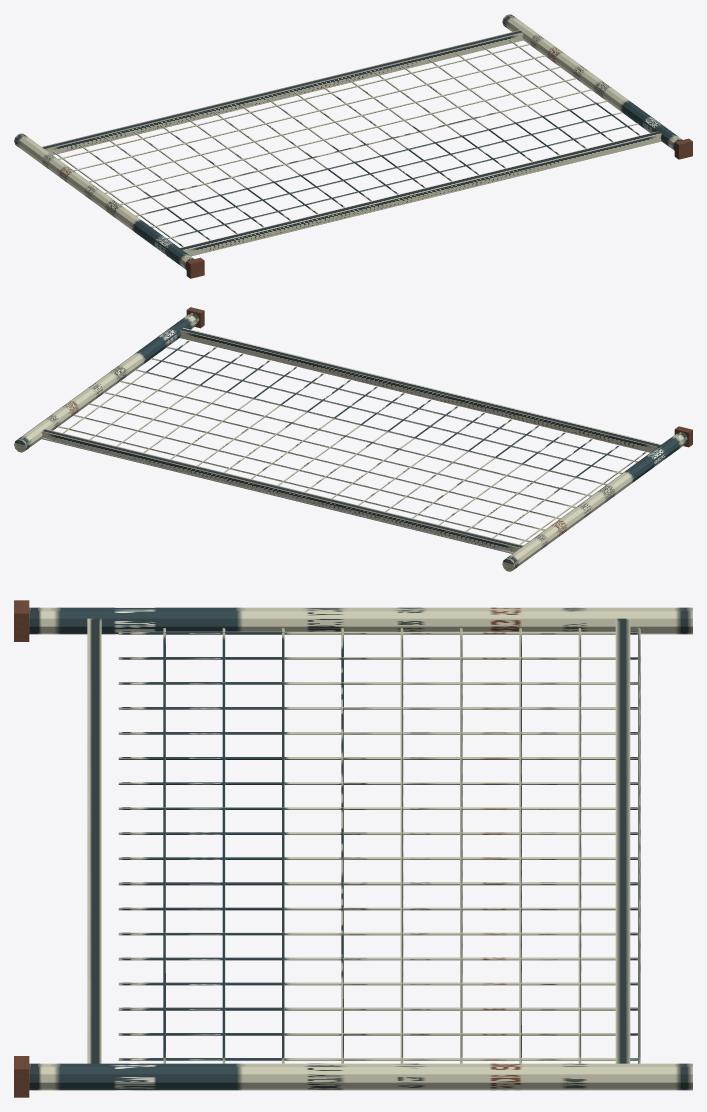
The model's file is PZ_RAD_05_Security_Fence_Straight_4m.glb.
3 renders of one model, top to bottom at view 1: azimuth 30°, elevation 25°; view 2: azimuth 150°, elevation 25°; view 3: azimuth 270°, elevation 25°, orthographic. The views are drawn at different scales.
Parts seen in each view (by area): view 1: FENCE_Security_WeldedWireMesh_Panel, FENCE_TopAndBottomRails, FENCE_Post_L, FENCE_Post_R, FENCE_PostCaps; view 2: FENCE_Security_WeldedWireMesh_Panel, FENCE_TopAndBottomRails, FENCE_Post_L, FENCE_Post_R; view 3: FENCE_Security_WeldedWireMesh_Panel, FENCE_Post_R, FENCE_Post_L, FENCE_TopAndBottomRails, FENCE_PostCaps.
Boxes of the visible parts, bbox=[...] form: FENCE_Security_WeldedWireMesh_Panel: bbox=[52, 39, 639, 246]; FENCE_TopAndBottomRails: bbox=[42, 30, 661, 256]; FENCE_Post_L: bbox=[14, 133, 194, 269]; FENCE_Post_R: bbox=[502, 14, 682, 150]; FENCE_PostCaps: bbox=[186, 138, 692, 278]; FENCE_Security_WeldedWireMesh_Panel: bbox=[42, 340, 646, 553]; FENCE_TopAndBottomRails: bbox=[41, 328, 661, 553]; FENCE_Post_L: bbox=[502, 432, 687, 571]; FENCE_Post_R: bbox=[14, 312, 199, 452]; FENCE_Security_WeldedWireMesh_Panel: bbox=[118, 628, 640, 1063]; FENCE_Post_R: bbox=[29, 1063, 692, 1090]; FENCE_Post_L: bbox=[29, 607, 692, 634]; FENCE_TopAndBottomRails: bbox=[87, 618, 630, 1063]; FENCE_PostCaps: bbox=[14, 600, 29, 1097].
Size of the model in its own units: 4.12 by 0.116 by 2.52.
Materials: 1 (1 with a texture image).
